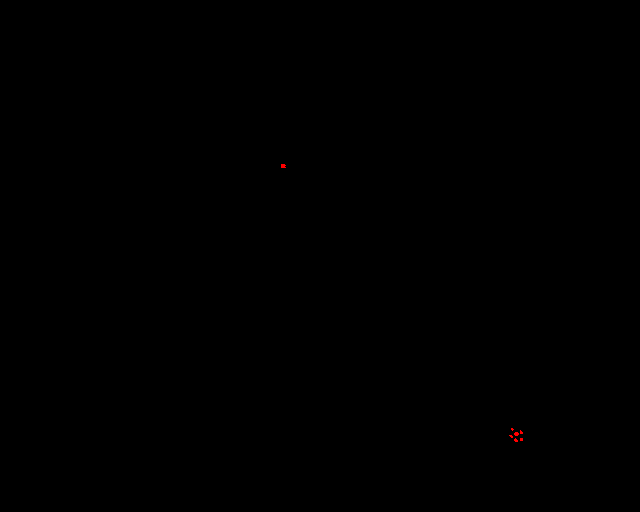Target: (281, 164, 286, 168), (514, 432, 519, 436), (514, 438, 518, 442), (520, 430, 523, 434), (509, 435, 513, 438), (511, 428, 514, 431), (520, 438, 523, 441)
